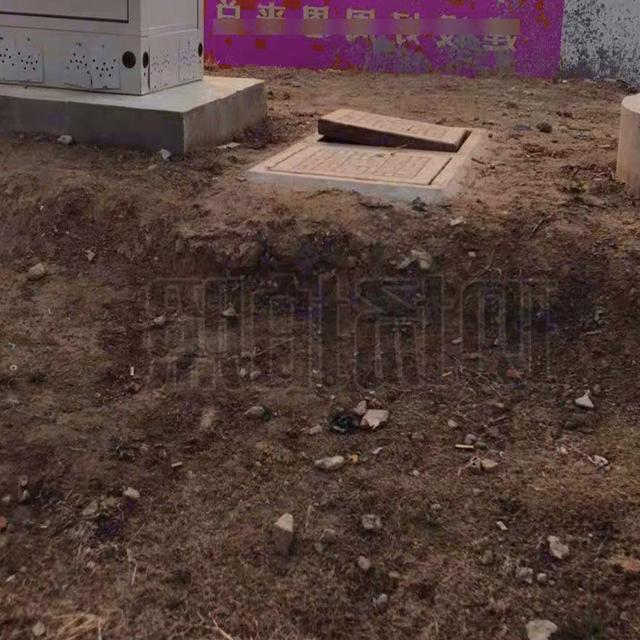uncovered: (243, 99, 480, 183)
